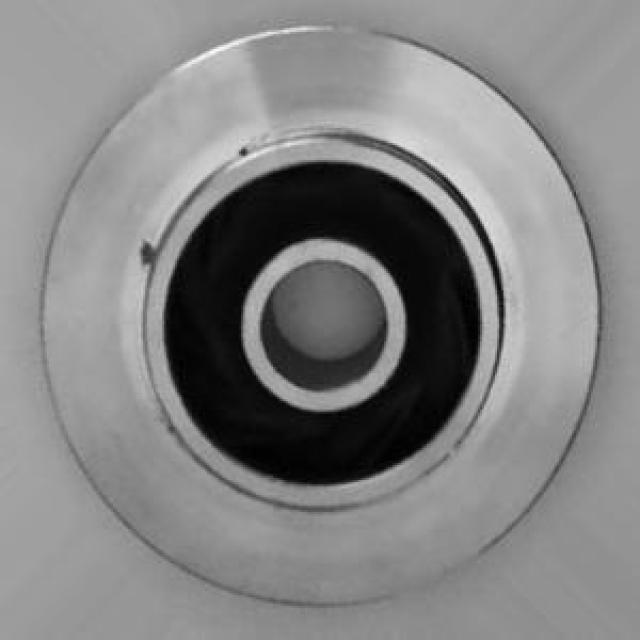Defect: (129, 230, 161, 268)
